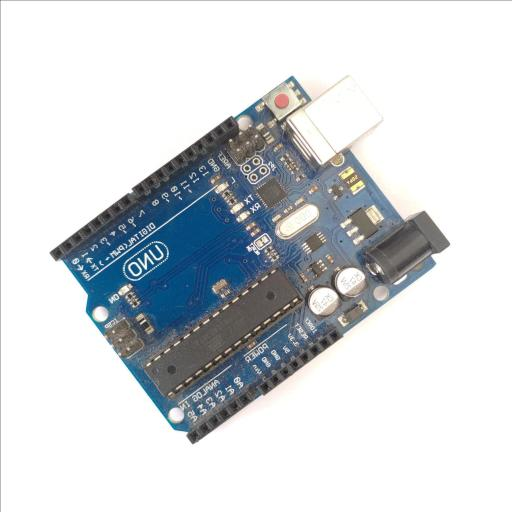Arduino Uno R3: (48, 74, 450, 444)
